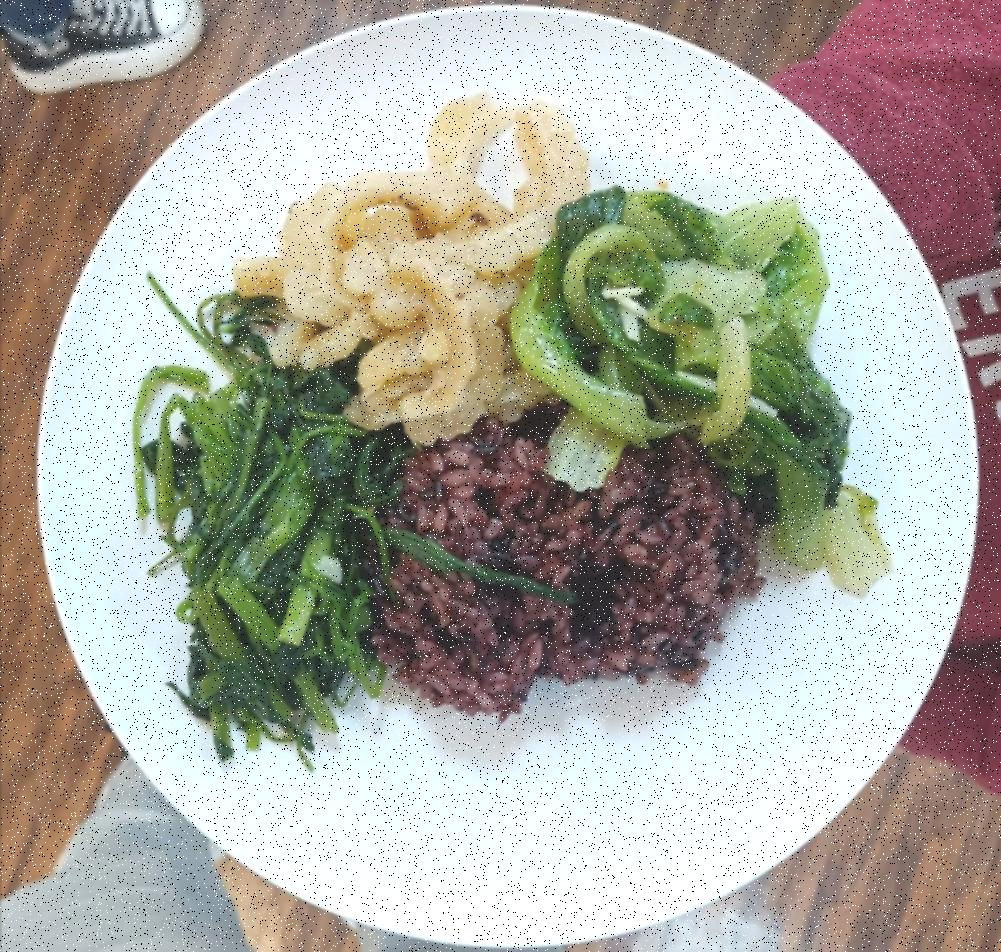big fried chicken leg: (26, 4, 1001, 952)
braised fish: (373, 401, 762, 710)
braised fish fillet: (518, 176, 894, 604), (239, 91, 590, 446), (130, 303, 390, 752)
